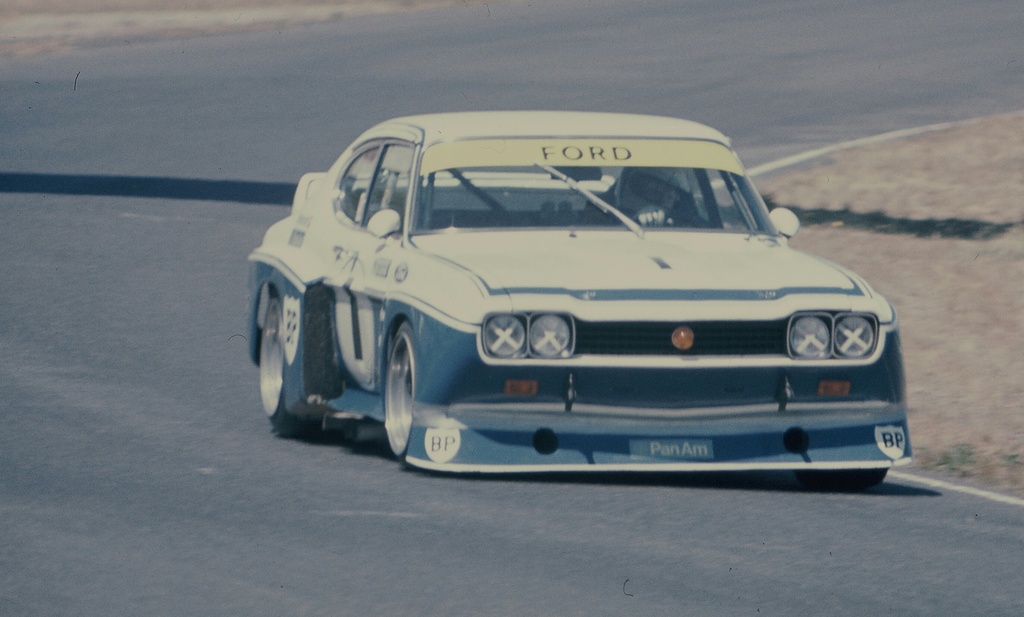cars: (228, 114, 910, 487)
